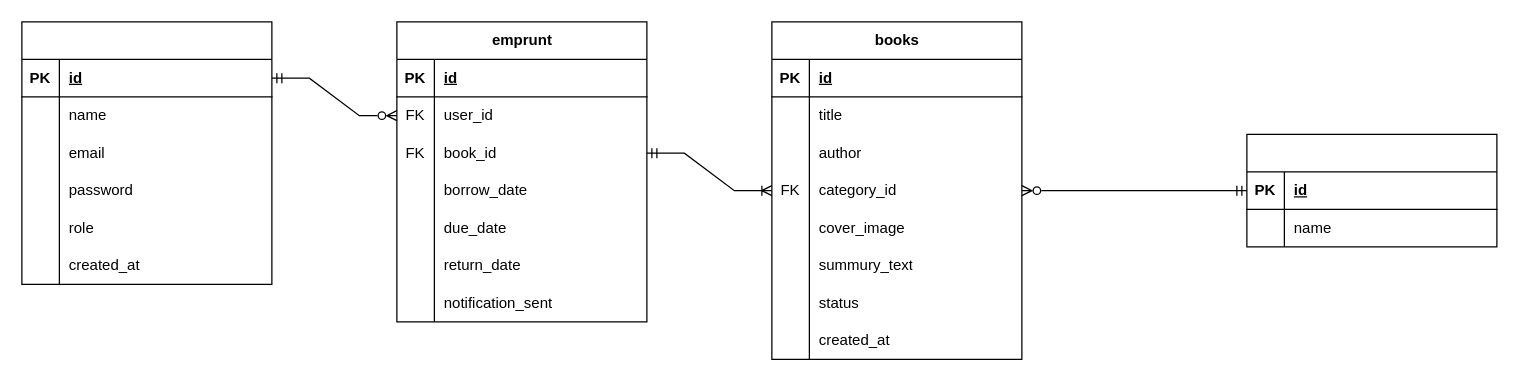
Image size: 1519x381. Some labels were removed from this diagram. The box of each missing label's shape, as (x1, y1, x2, y2) in pixels:
categories: (1246, 133, 1497, 247)
users: (21, 21, 272, 284)
